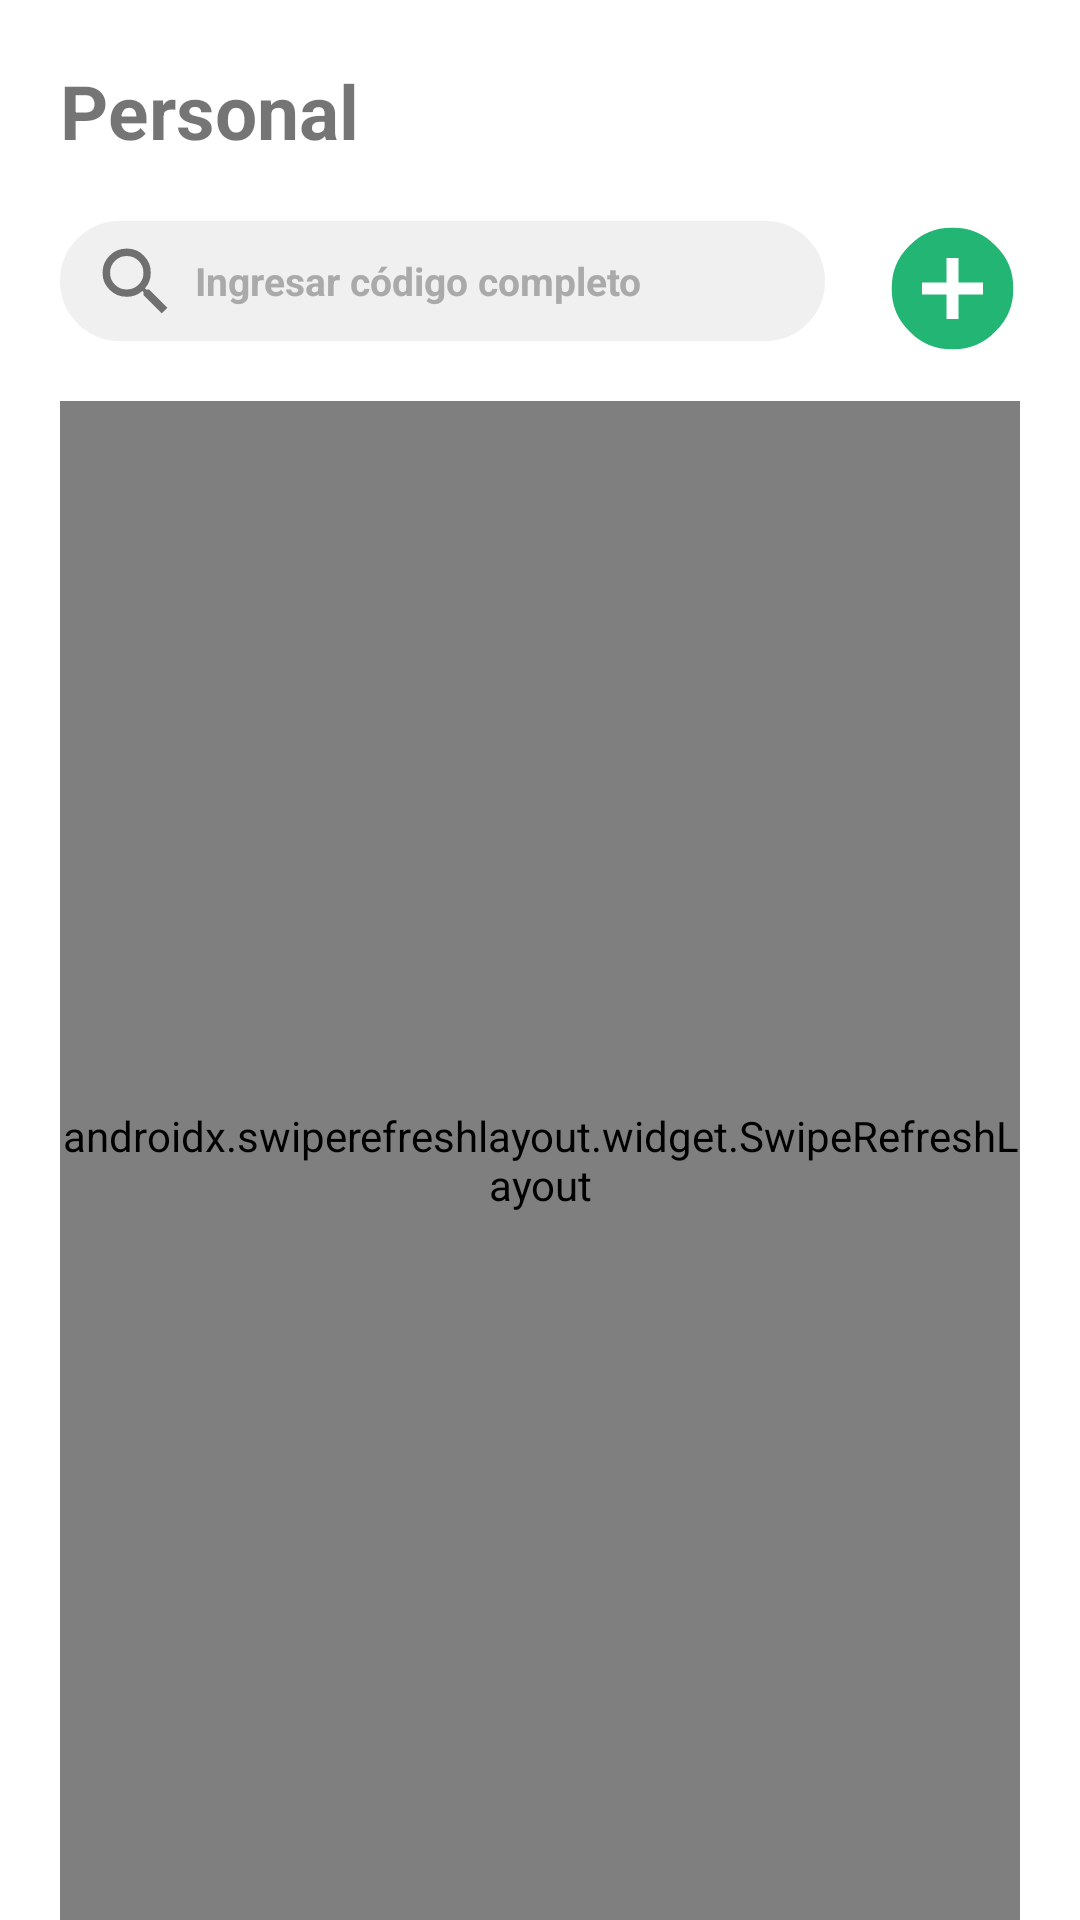

Icon click points for this 1080w x 1920h phone screenshot, format [x,y]:
add: [952,288]
